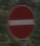No entry: (6, 5, 34, 40)
